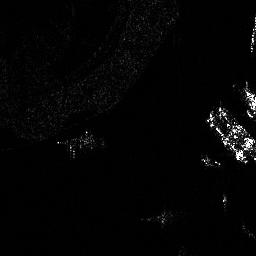ship: (208, 114, 246, 163), (216, 106, 256, 148)
